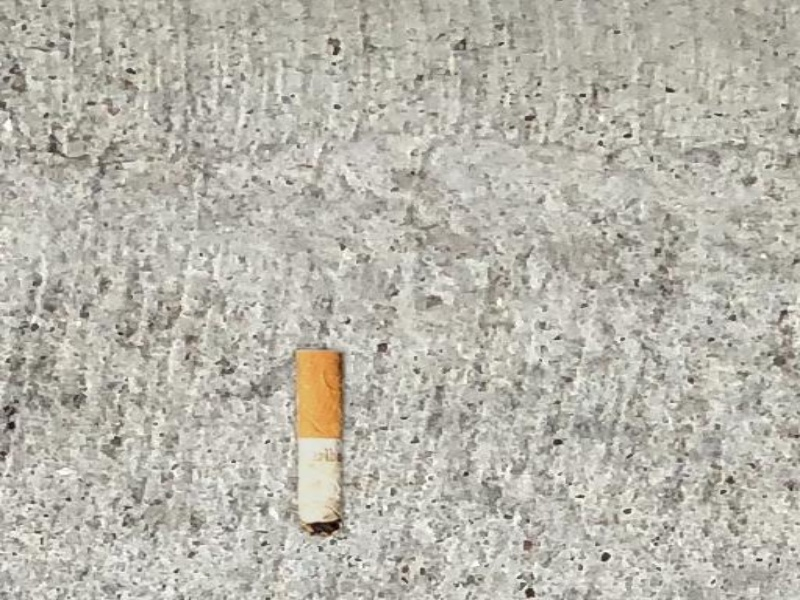cig: (268, 343, 372, 539)
